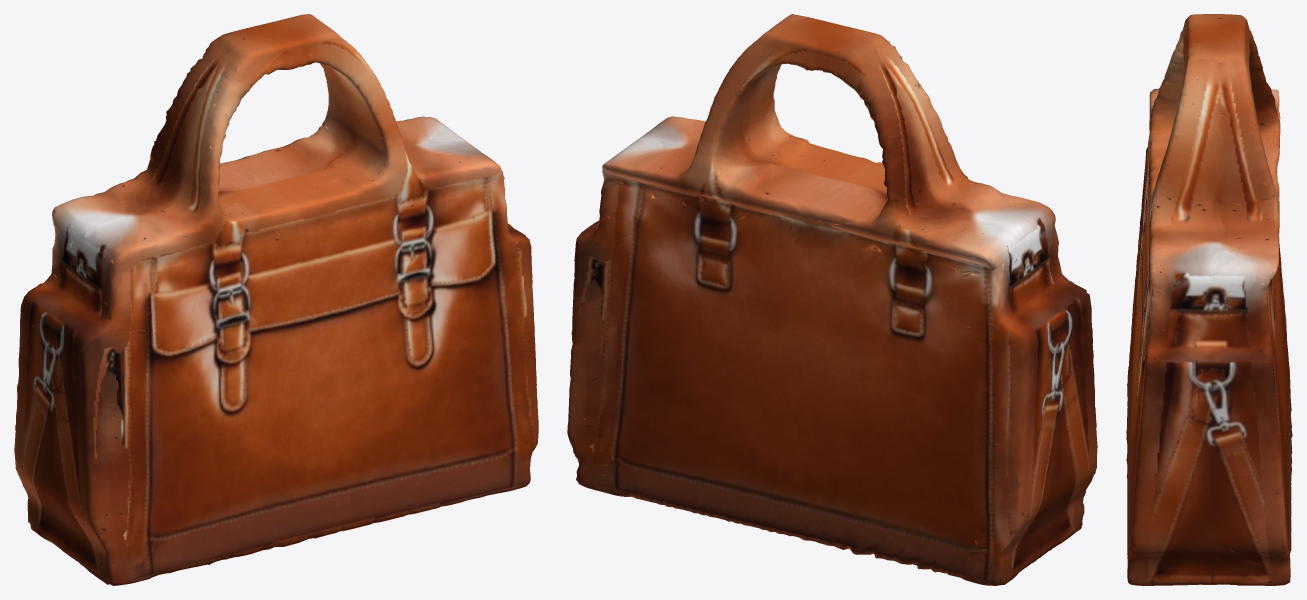
The model's file is art-102.glb.
The picture shows the model from 3 angles, left to right: view 1: azimuth 30°, elevation 25°; view 2: azimuth 150°, elevation 25°; view 3: azimuth 270°, elevation 25°; orthographic projection. The views are drawn at different scales.
Visible parts, largest first — view 1: geometry_0; view 2: geometry_0; view 3: geometry_0.
Part boxes in pixels (x1,y1,x2,y2): geometry_0: (14,14,538,585); geometry_0: (567,14,1097,585); geometry_0: (1126,14,1292,585).
Size of the model in its own units: 0.2779 by 0.28 by 0.0923.
Materials: 1 (1 with a texture image).
